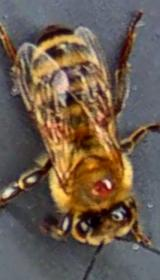varroa_mite: (88, 168, 116, 200)
